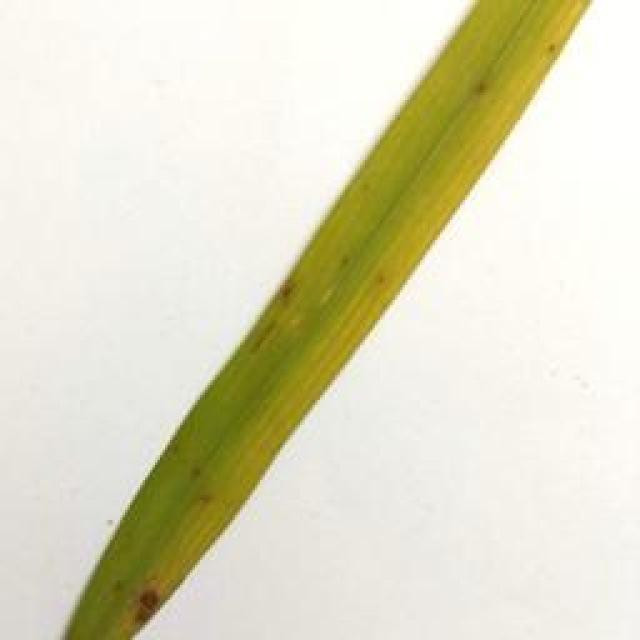Brown_Spot: (266, 252, 312, 320), (456, 60, 504, 120), (140, 581, 173, 635), (322, 248, 367, 284), (238, 319, 276, 358), (107, 583, 145, 614), (365, 265, 395, 294), (186, 457, 210, 491), (192, 482, 220, 502), (537, 40, 565, 60)
